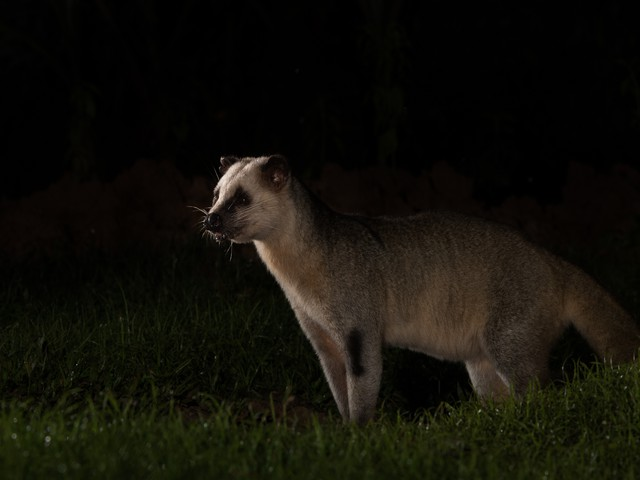civet: (198, 149, 638, 422)
